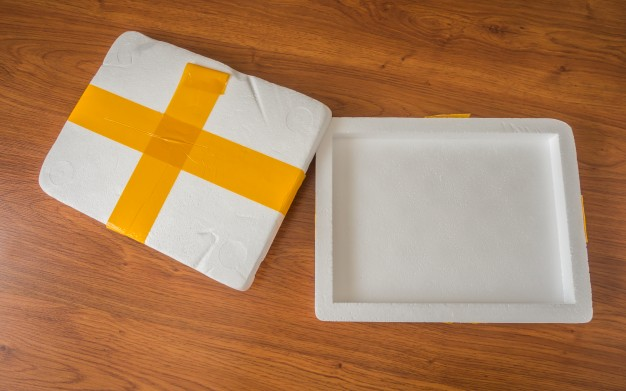Foam Box: (33, 25, 335, 295), (310, 109, 598, 328)
